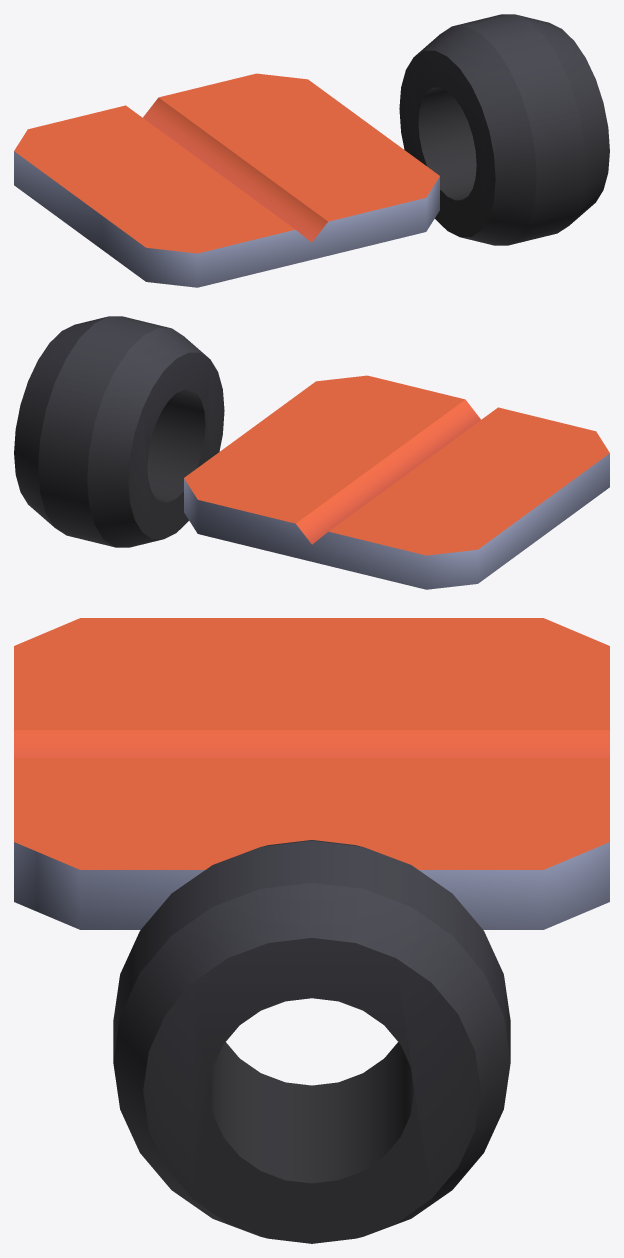
Rendered from rubble.glb.
3 views of the same model, one above another, from view 1: azimuth 30°, elevation 25°; view 2: azimuth 150°, elevation 25°; view 3: azimuth 270°, elevation 25° (orthographic). The views are drawn at different scales.
Visible parts, largest first — view 1: debris-plate-a, debris-tire; view 2: debris-plate-a, debris-tire; view 3: debris-plate-a, debris-tire.
Part boxes in pixels (x1=…): debris-plate-a: x1=14, y1=73, x2=439, y2=287; debris-tire: x1=399, y1=14, x2=609, y2=245; debris-plate-a: x1=184, y1=375, x2=609, y2=589; debris-tire: x1=14, y1=316, x2=224, y2=547; debris-plate-a: x1=14, y1=618, x2=609, y2=929; debris-tire: x1=113, y1=840, x2=510, y2=1243.
Bounding box in the file's own units: 1.47 × 0.6 × 0.9.
Materials: 1 (1 with a texture image).
